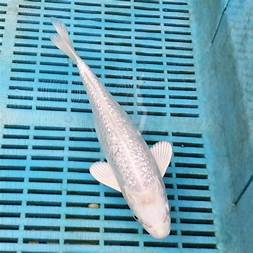white: (49, 16, 174, 239)
